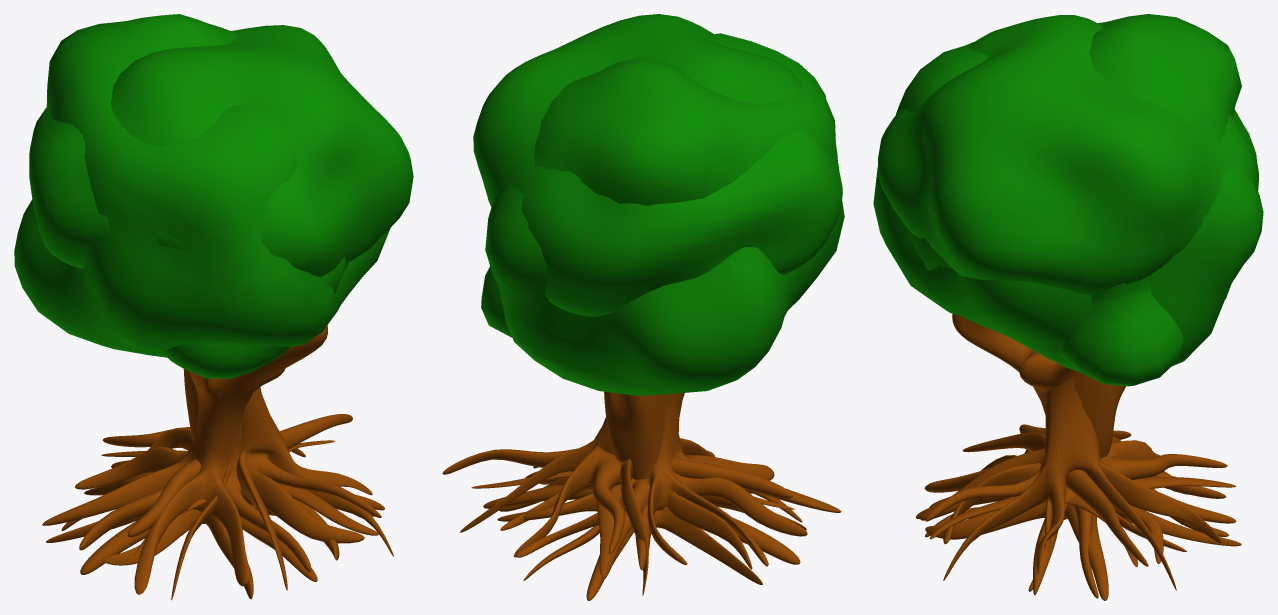
Rendered from tree_v1.fbx.
The picture shows the model from 3 angles, left to right: view 1: azimuth 30°, elevation 25°; view 2: azimuth 150°, elevation 25°; view 3: azimuth 270°, elevation 25°; orthographic projection. The views are drawn at different scales.
Parts seen in each view (by area): view 1: blattwerk, blattwerk_3, treebody_2, treebody_3, treebody, blattwerk_2; view 2: blattwerk, blattwerk_3, treebody_3, treebody, treebody_2, blattwerk_2; view 3: blattwerk_3, blattwerk, treebody_3, blattwerk_2, treebody_2, treebody.
Part boxes in pixels (x1=…): blattwerk: x1=14, y1=14, x2=390, y2=357; blattwerk_3: x1=29, y1=25, x2=413, y2=276; treebody_2: x1=42, y1=325, x2=374, y2=594; treebody_3: x1=61, y1=387, x2=393, y2=600; treebody: x1=46, y1=369, x2=384, y2=599; blattwerk_2: x1=163, y1=256, x2=348, y2=378; blattwerk: x1=485, y1=33, x2=844, y2=395; blattwerk_3: x1=473, y1=14, x2=842, y2=316; treebody_3: x1=442, y1=417, x2=802, y2=595; treebody: x1=483, y1=391, x2=806, y2=600; treebody_2: x1=499, y1=393, x2=841, y2=579; blattwerk_2: x1=481, y1=266, x2=512, y2=337; blattwerk_3: x1=878, y1=15, x2=1258, y2=295; blattwerk: x1=873, y1=14, x2=1263, y2=372; treebody_3: x1=915, y1=377, x2=1236, y2=590; blattwerk_2: x1=908, y1=230, x2=1183, y2=386; treebody_2: x1=920, y1=314, x2=1229, y2=598; treebody: x1=925, y1=374, x2=1241, y2=600.
Bounding box in the file's own units: 975 × 1331 × 953.
